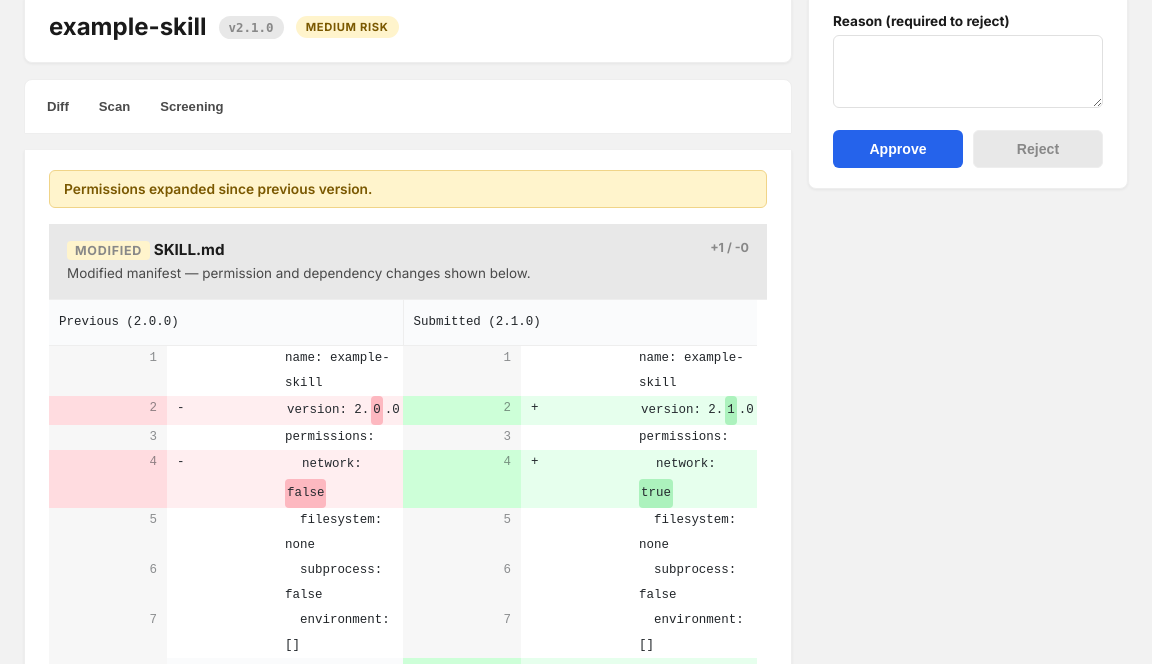
Scenario: ReviewDetail › renders the submission header version, Diff tab modified file path, and detailed Scan report
The width and height of the screenshot is (1152, 664).
Expected: the heading "example-skill" is shown, 49,13 -> 207,42
Expected: the text "v2.1.0" is shown, 219,16 -> 284,39
// Switch to Scan tab — verdict, metadata, tool results, and grouped findings
Click the tab "Scan" at (114, 106), box 87,90 -> 142,123
(page scrolled)
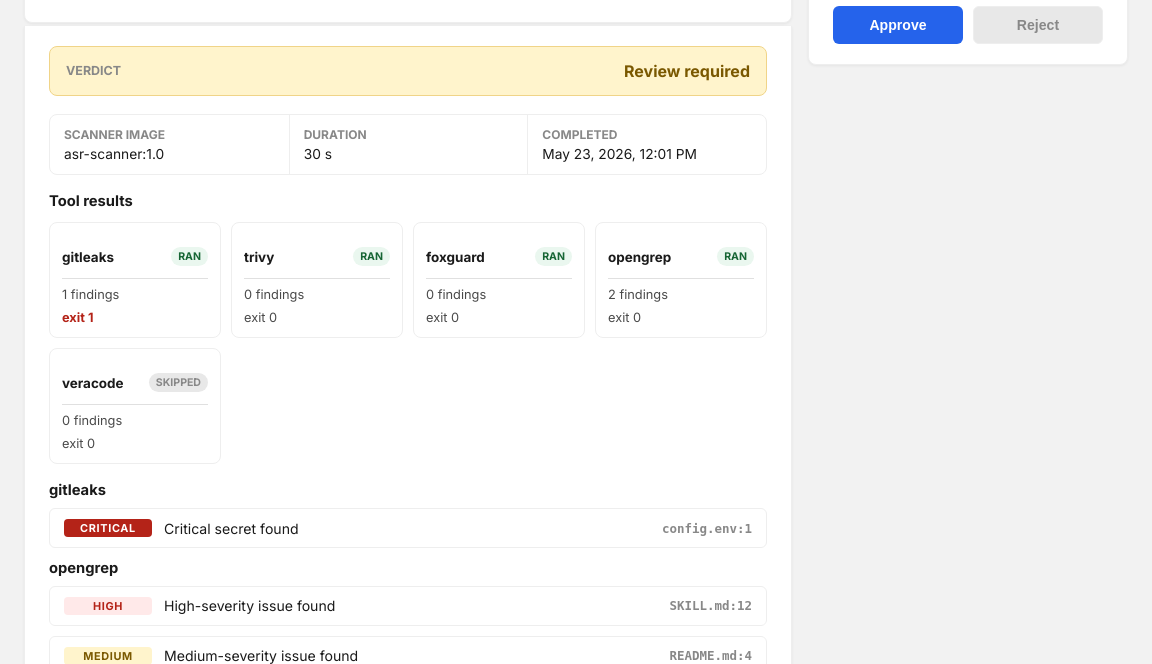
Now the element named "scan verdict: review required" is shown, box 49,46 -> 767,96
Now the panel "Scan" shows "asr-scanner:1.0", box 64,146 -> 164,162
Now the panel "Scan" shows "30 s", box 304,146 -> 332,162
